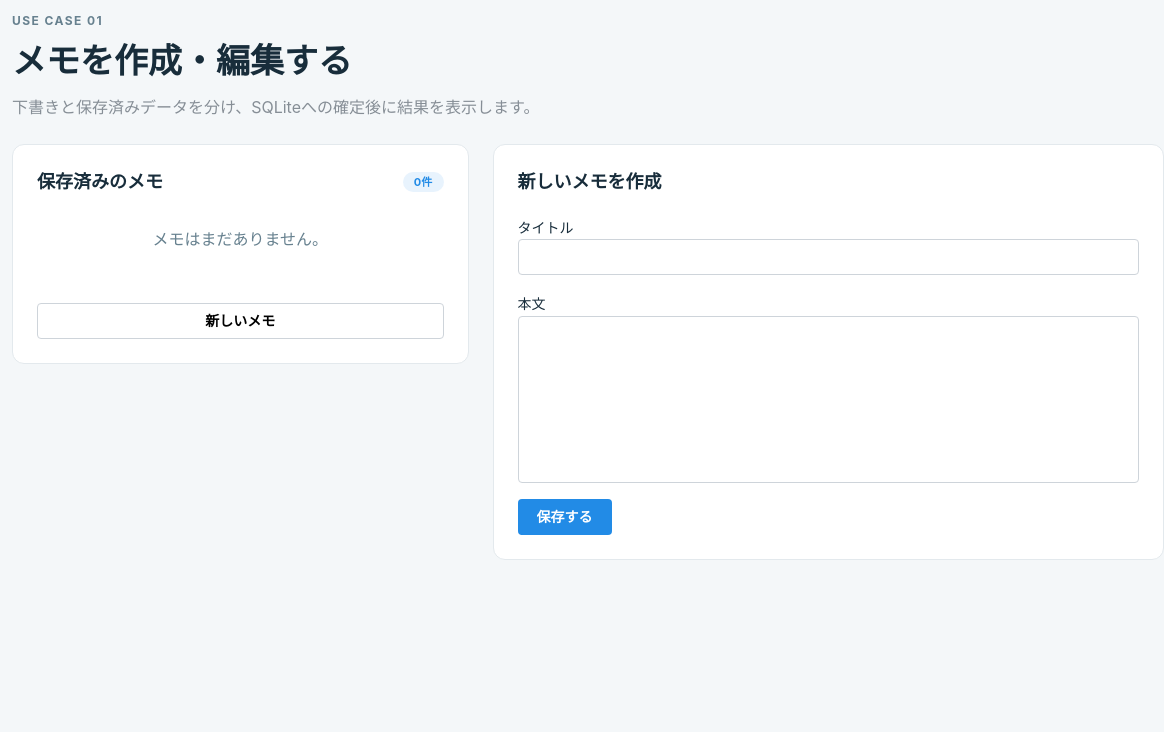
Test case: 保存後の一覧の再取得に失敗しても保存結果を表示し、一覧の取得失敗を別に示す
Expected: the text "メモはまだありません。" is shown, x1=152 y1=229 x2=328 y2=249
Type "保存したメモ" into the field labelled "タイトル". click: {"x": 828, "y": 258}
box: x1=518 y1=240 x2=1139 y2=276
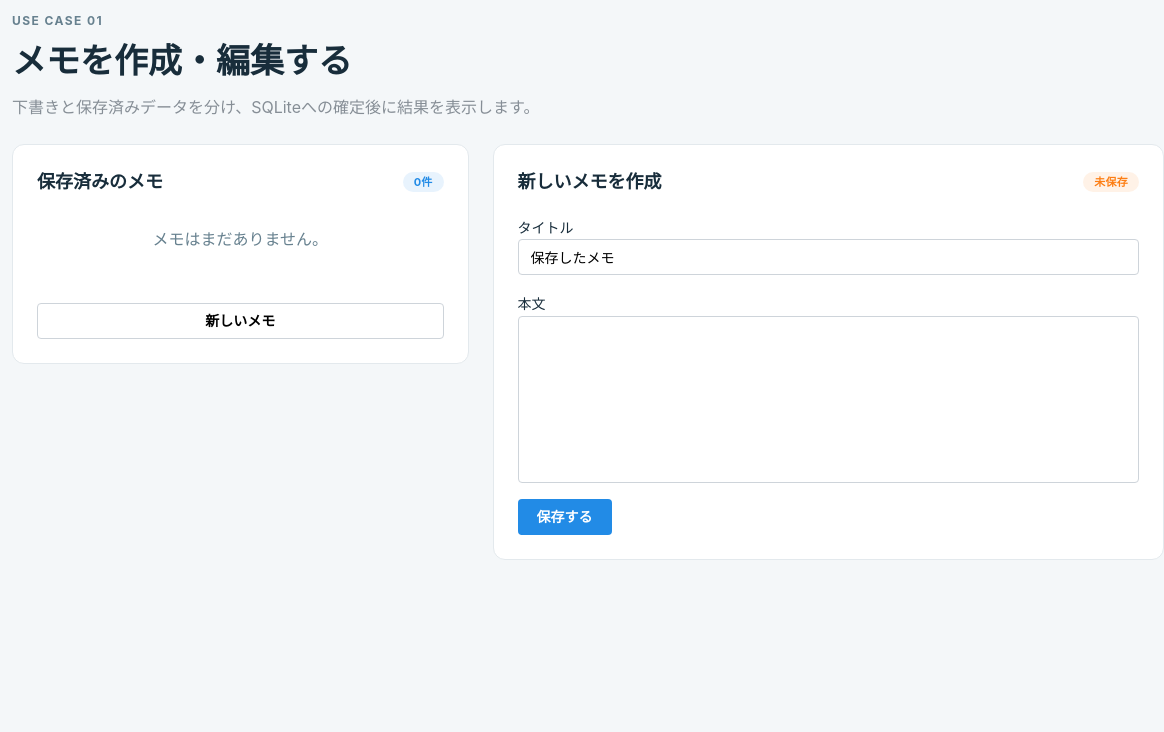
Type "本文" into the text box labelled "本文". click: {"x": 828, "y": 400}
box: x1=518 y1=316 x2=1139 y2=483
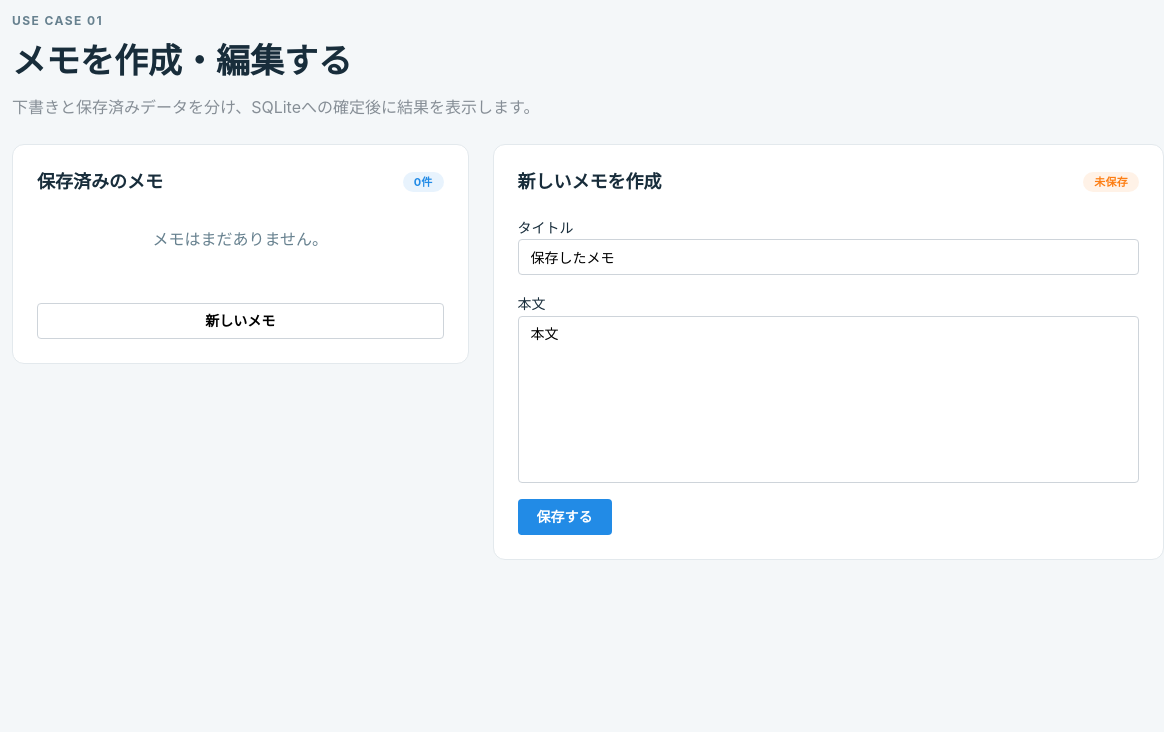
Click the button "保存する". click: {"x": 565, "y": 517}
box: x1=518 y1=499 x2=612 y2=535
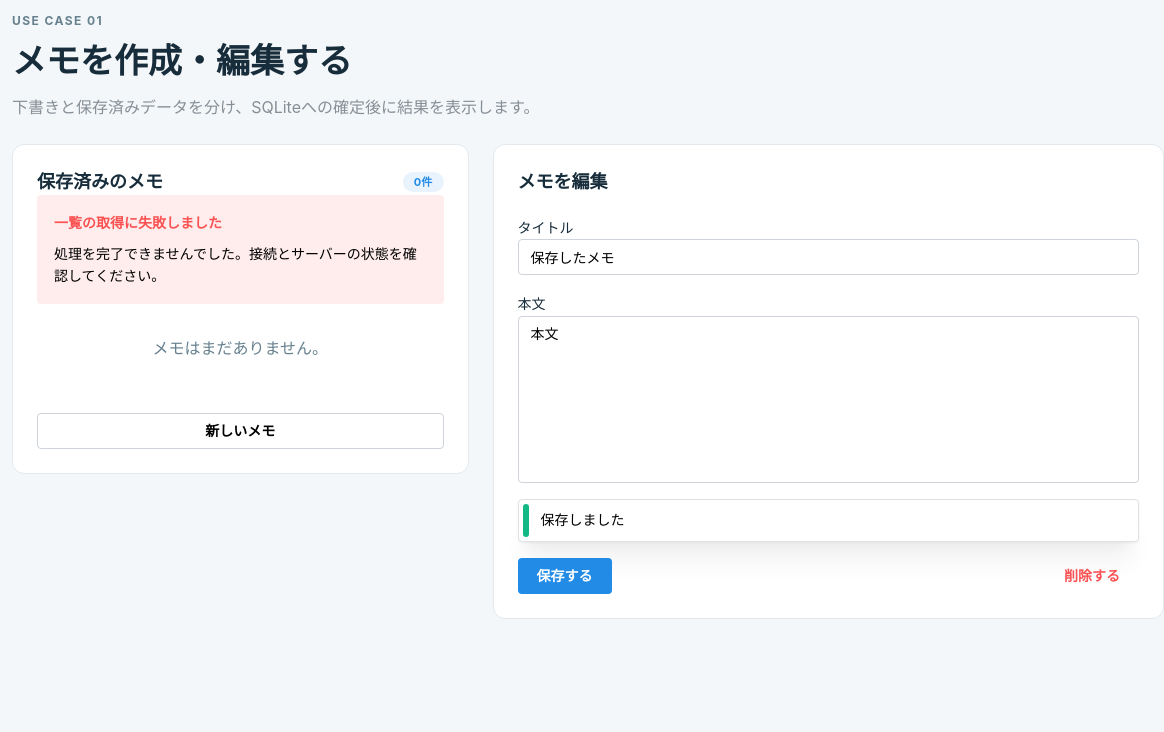
Expected: the message "保存しました" is shown, x1=518 y1=499 x2=1139 y2=542
Expected: the text "一覧の取得に失敗しました" is shown, x1=54 y1=212 x2=222 y2=233
